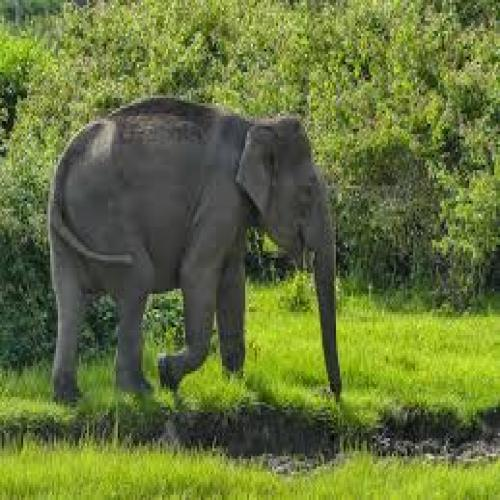asian_elephant-endangered: (47, 100, 343, 398)
